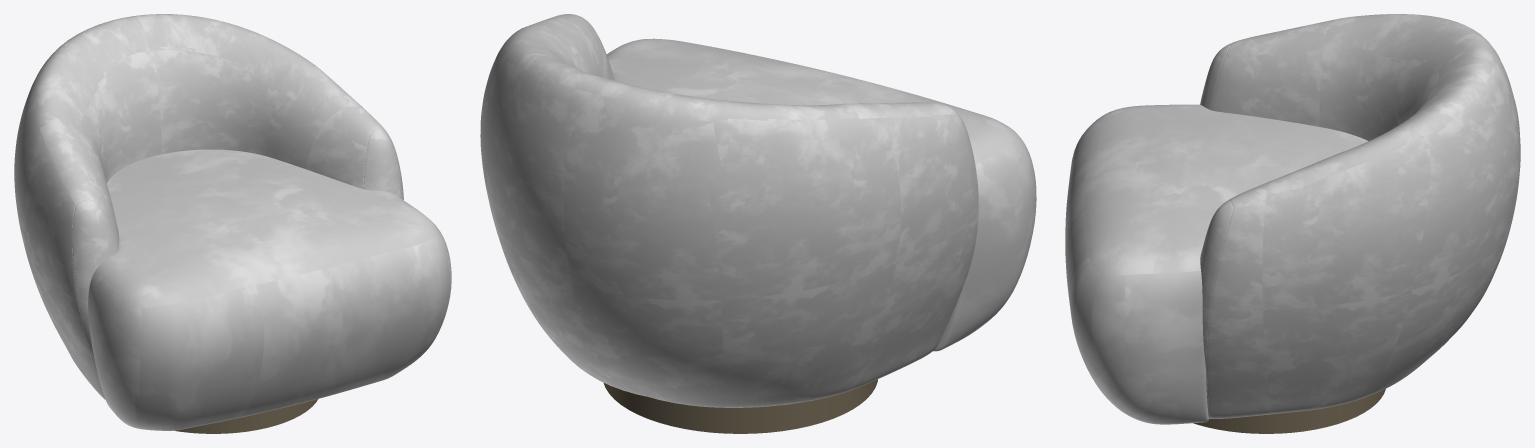
3 renders of one model, left to right at view 1: azimuth 30°, elevation 25°; view 2: azimuth 150°, elevation 25°; view 3: azimuth 270°, elevation 25°, orthographic. The views are drawn at different scales.
Parts seen in each view (by area): view 1: Box2138776852, Box2138776853, Cylinder9180; view 2: Box2138776853, Box2138776852, Cylinder9180; view 3: Box2138776853, Box2138776852, Cylinder9180.
Part boxes in pixels (x1,y1,x2,y2): Box2138776852: [88, 149, 451, 430]; Box2138776853: [14, 14, 403, 399]; Cylinder9180: [174, 399, 317, 433]; Box2138776853: [480, 14, 978, 407]; Box2138776852: [606, 38, 1036, 351]; Cylinder9180: [603, 379, 877, 433]; Box2138776853: [1200, 14, 1520, 418]; Box2138776852: [1065, 104, 1368, 424]; Cylinder9180: [1193, 389, 1385, 433].
Bounding box in the file's own units: 0.9297 × 0.7834 × 0.9778.
2 materials, 1 textured.
